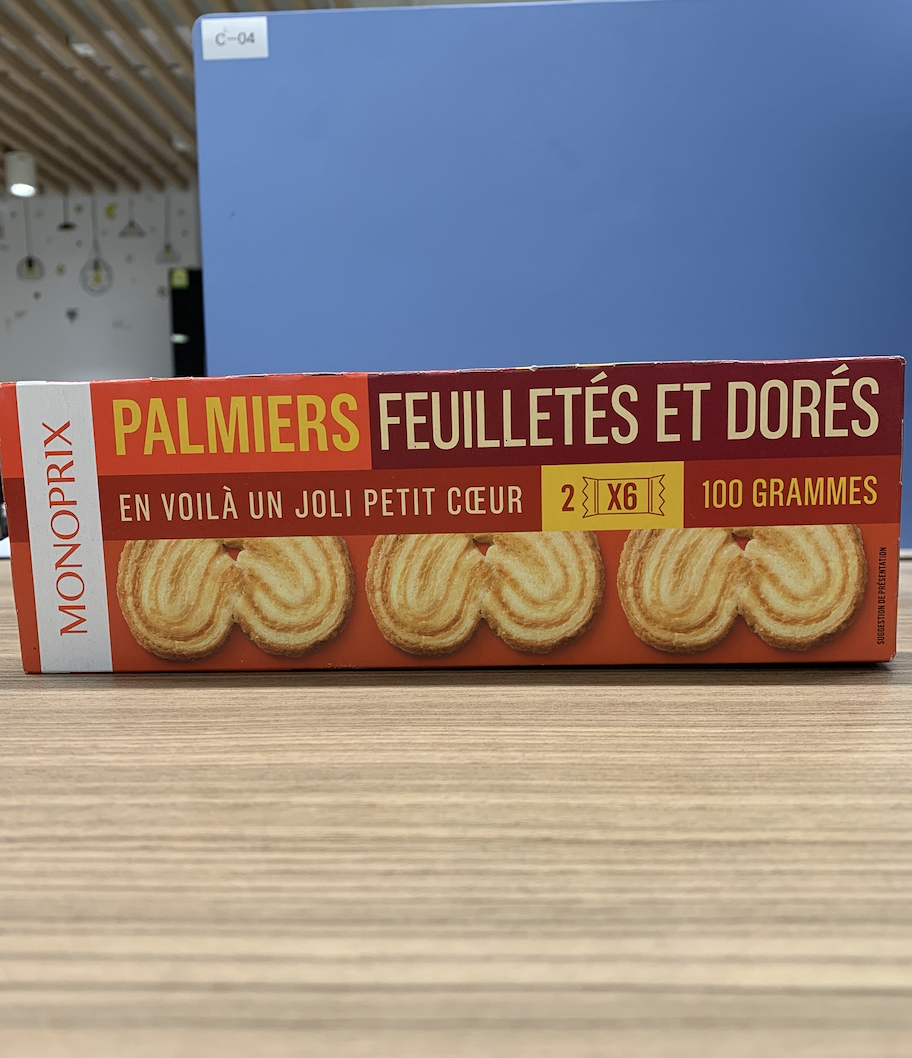cookies_100g-199g: (25, 377, 894, 663)
